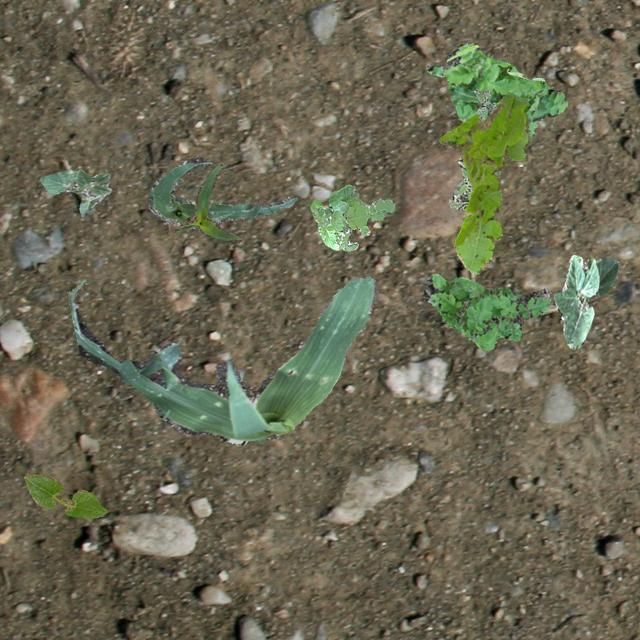crop: (65, 274, 376, 443), (148, 156, 296, 224), (552, 254, 618, 348), (172, 162, 240, 242), (24, 472, 106, 518), (39, 168, 110, 216)
weed: (438, 91, 530, 272), (426, 41, 566, 138), (422, 272, 550, 350), (310, 183, 394, 250), (473, 88, 499, 174), (448, 157, 472, 210)
